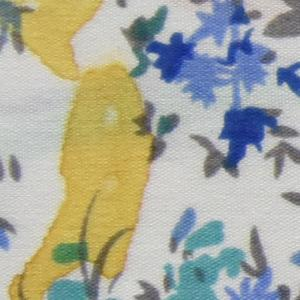Oil Stain: (1, 1, 162, 300)
